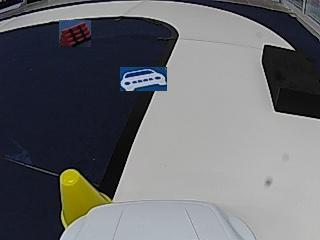block: (263, 44, 318, 117)
cone: (60, 171, 109, 204)
